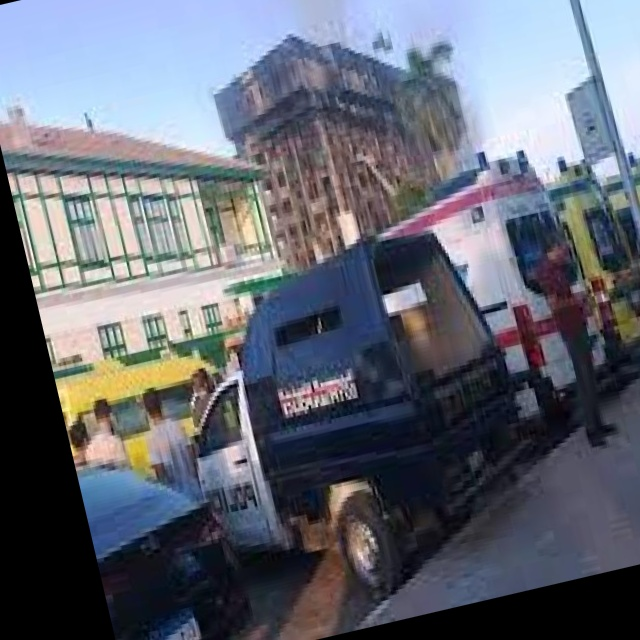Ambulance: (384, 120, 623, 432), (525, 137, 640, 362)
person: (524, 227, 623, 452), (133, 378, 204, 509), (72, 392, 134, 476), (181, 362, 227, 435), (67, 418, 96, 467)
police-car: (130, 220, 533, 621)
